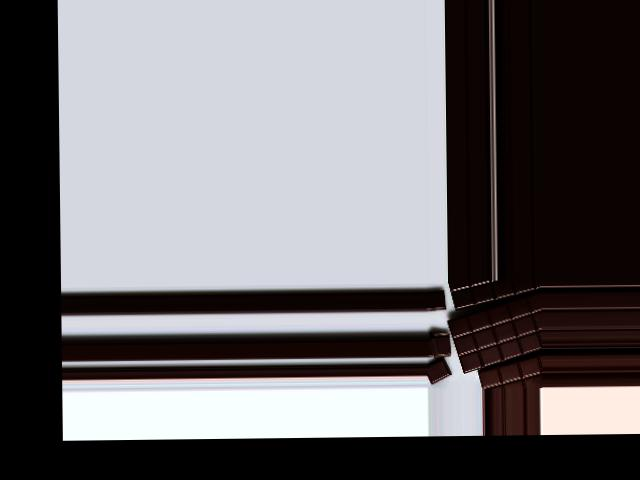chocolate: (448, 294, 543, 375)
